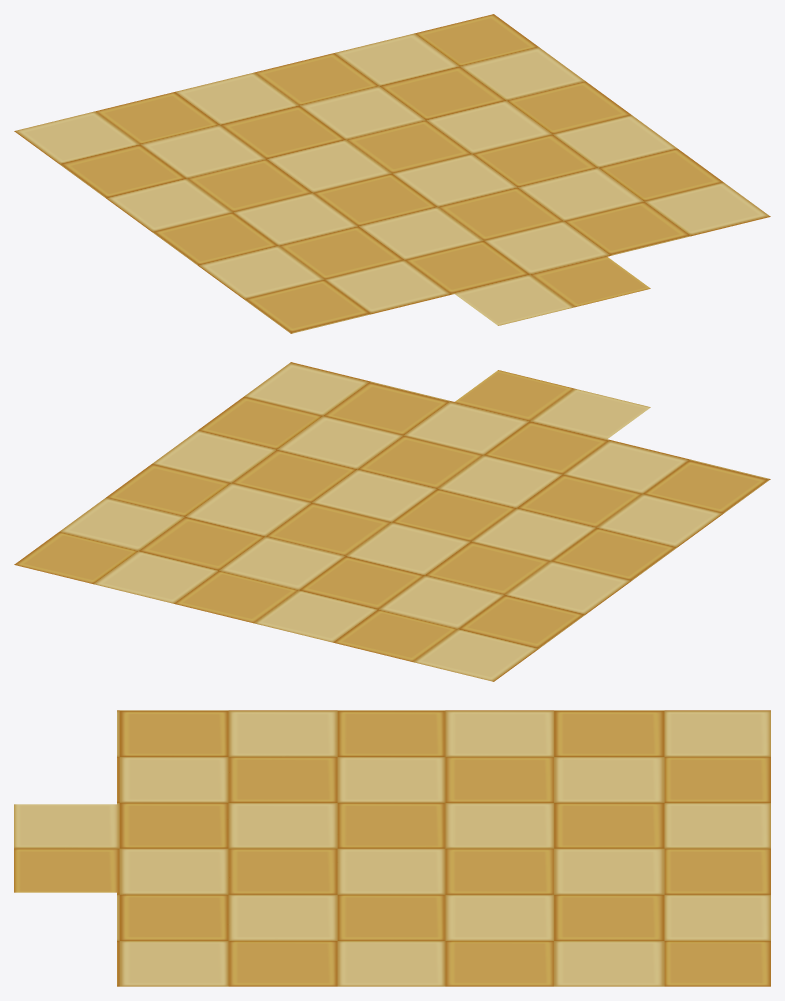
File: Floor01_c01.FBX
3 renders of one model, top to bottom at view 1: azimuth 30°, elevation 25°; view 2: azimuth 150°, elevation 25°; view 3: azimuth 270°, elevation 25°, orthographic. The views are drawn at different scales.
Parts seen in each view (by area): view 1: Floor01_c01; view 2: Floor01_c01; view 3: Floor01_c01.
Part boxes in pixels (bbox=[...]): Floor01_c01: bbox=[14, 14, 770, 333]; Floor01_c01: bbox=[14, 362, 770, 681]; Floor01_c01: bbox=[14, 710, 770, 986].
Bounding box in the file's own units: 600 × 0.000218 × 695.
Materials: 1 (1 with a texture image).
